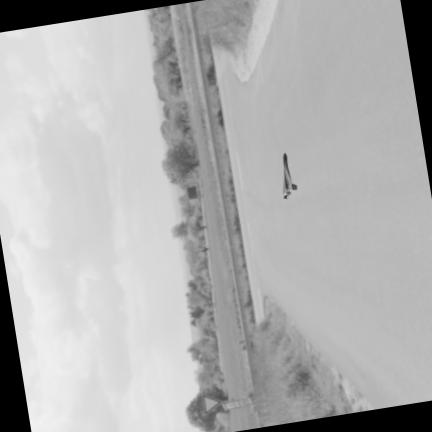Shahed: (283, 152, 296, 198)
